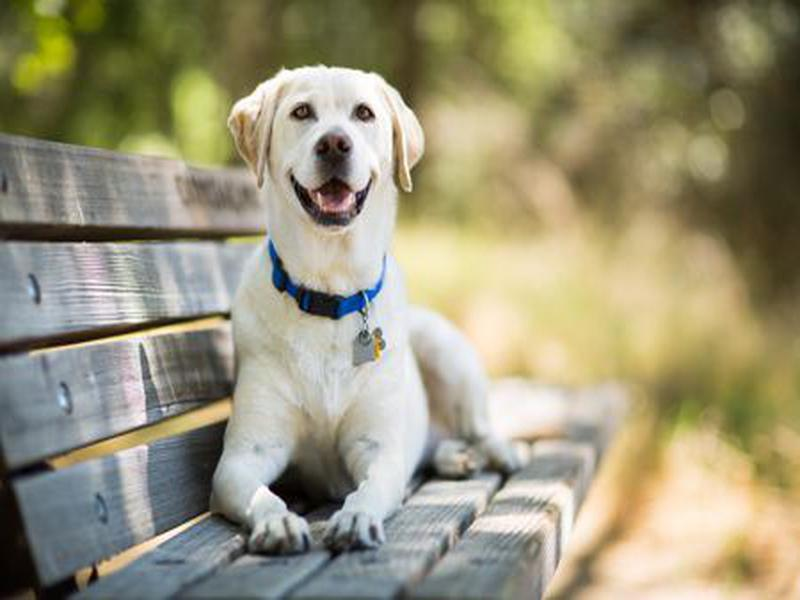dog_down: (206, 62, 537, 567)
